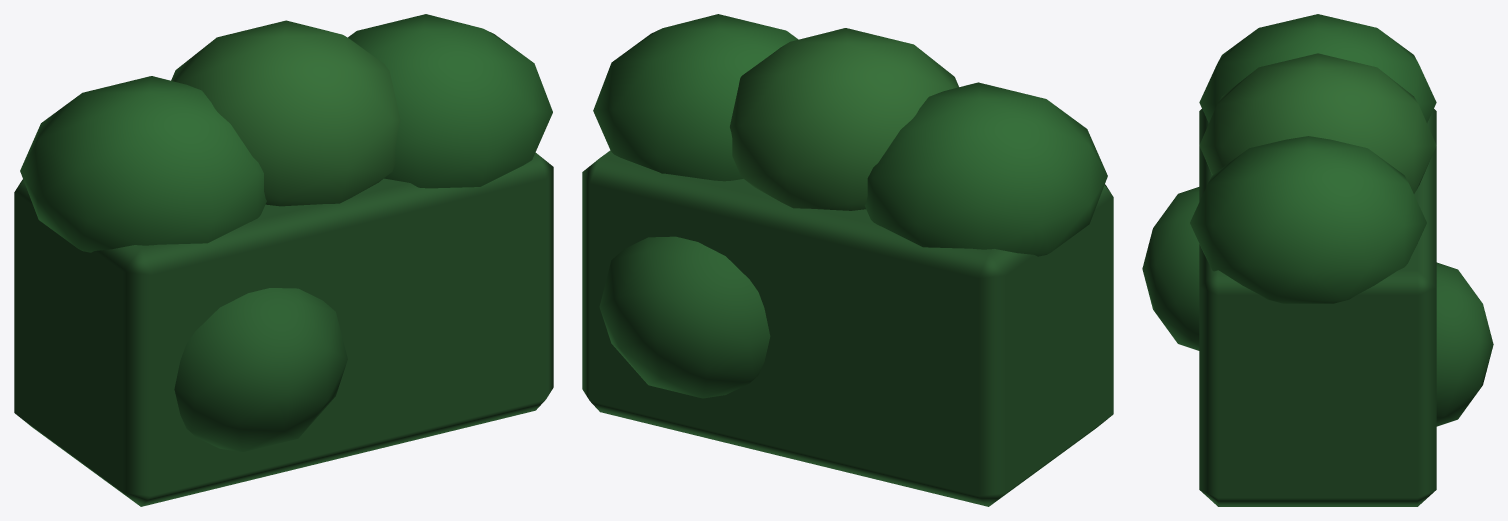
Rendered from hedge.4d055ec0.glb.
The picture shows the model from 3 angles, left to right: view 1: azimuth 30°, elevation 25°; view 2: azimuth 150°, elevation 25°; view 3: azimuth 270°, elevation 25°; orthographic projection. The views are drawn at different scales.
Parts seen in each view (by area): view 1: body; view 2: body; view 3: body.
Boxes of the visible parts, x1,y1,x2,y2 form: body: [14, 14, 553, 506]; body: [582, 14, 1113, 506]; body: [1142, 14, 1493, 506].
Size of the model in its own units: 1.1 by 0.815 by 0.74.
